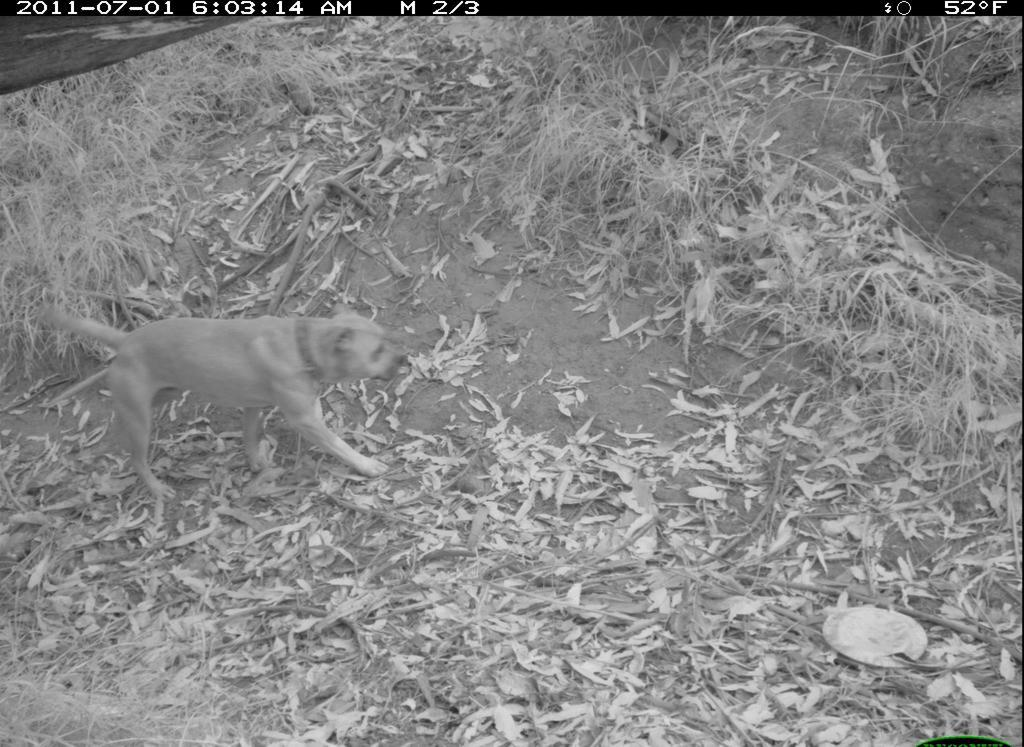dog: (40, 302, 416, 507)
